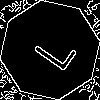L: (25, 25, 78, 74)
